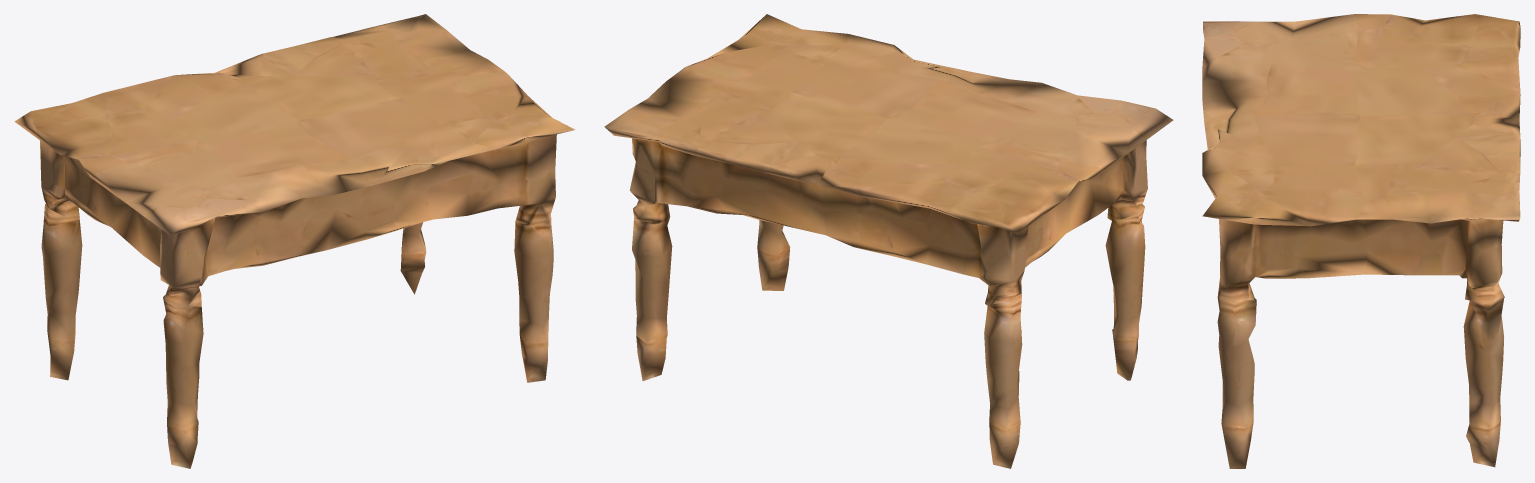
File: Table1.glb
3 views of the same model, side by side, from view 1: azimuth 30°, elevation 25°; view 2: azimuth 150°, elevation 25°; view 3: azimuth 270°, elevation 25° (orthographic).
Visible parts, largest first — view 1: 3d66-Editable_mesh-24225354-001; view 2: 3d66-Editable_mesh-24225354-001; view 3: 3d66-Editable_mesh-24225354-001.
Part boxes in pixels (<box>): 3d66-Editable_mesh-24225354-001: <box>14,14,574,468</box>; 3d66-Editable_mesh-24225354-001: <box>604,14,1173,468</box>; 3d66-Editable_mesh-24225354-001: <box>1202,14,1520,468</box>.
Size of the model in its own units: 1 by 0.597 by 0.6563.
1 material, 1 textured.
